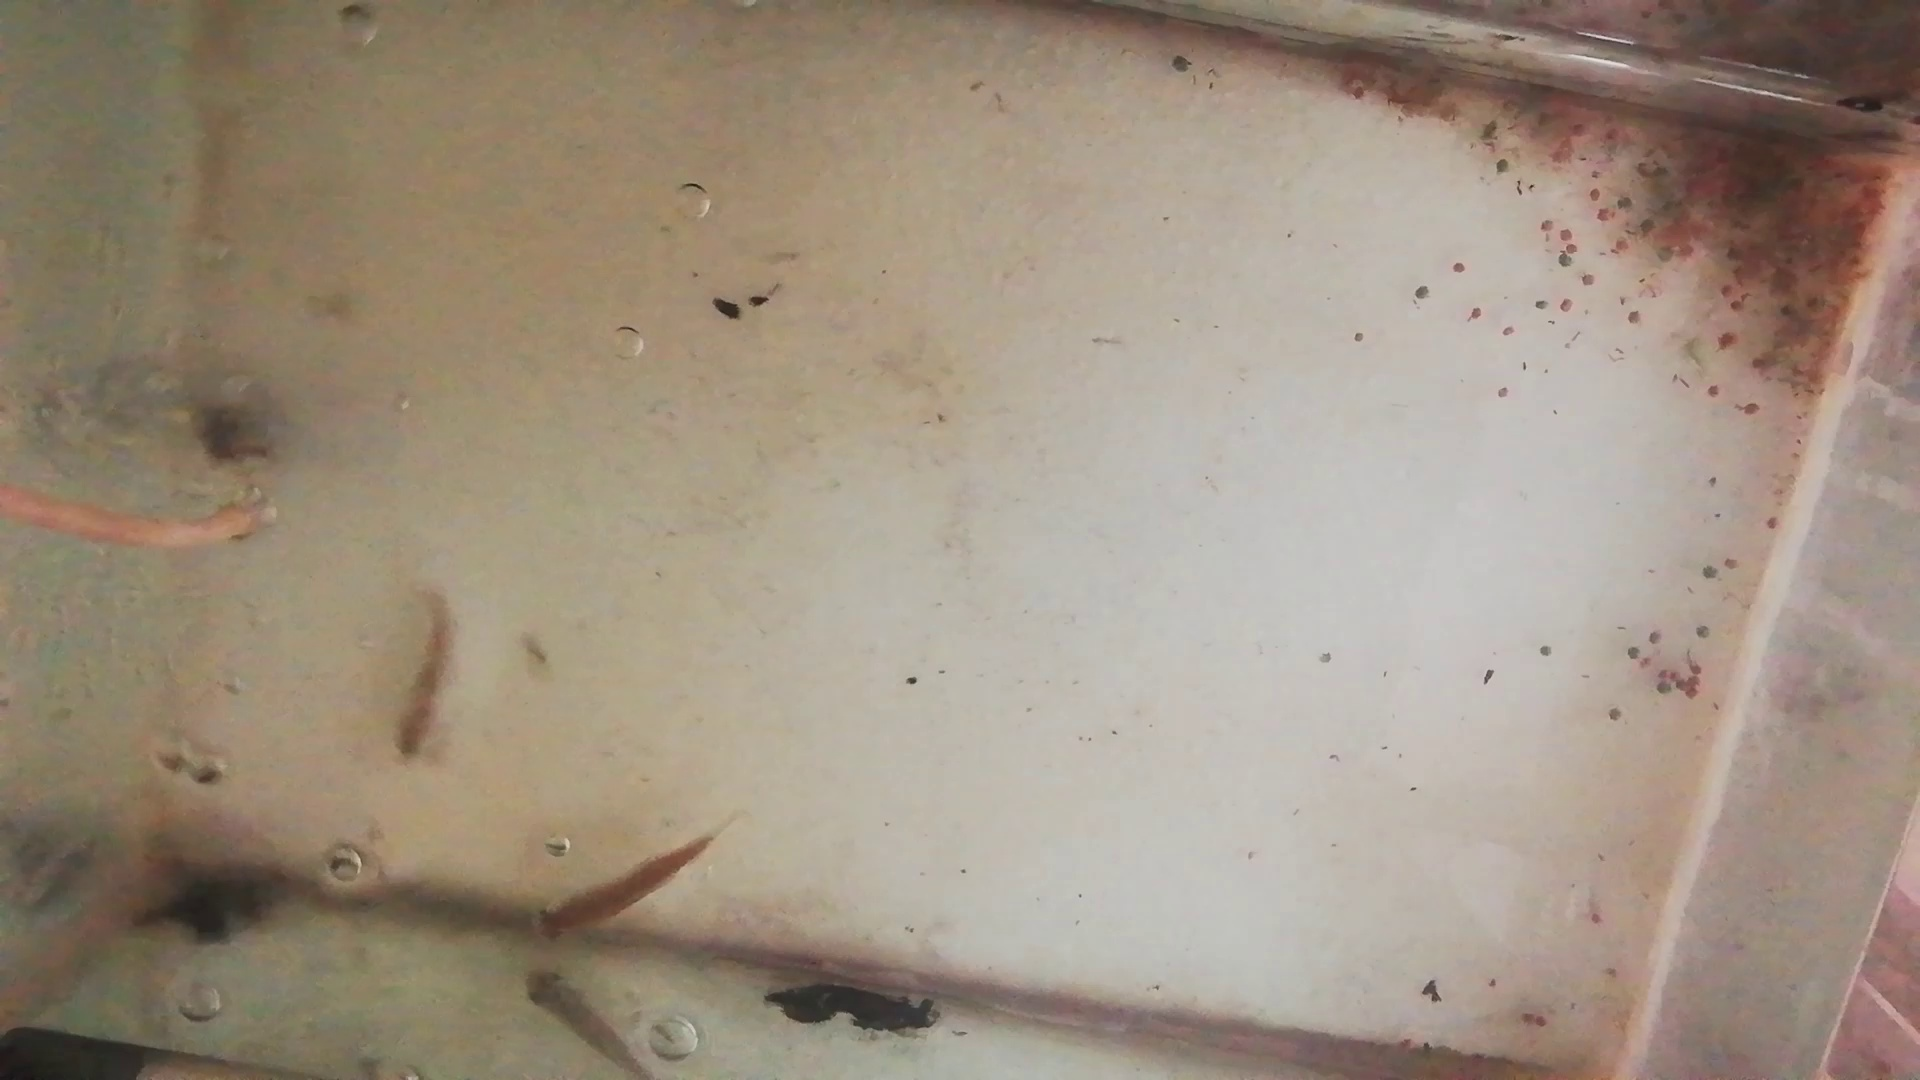fish: (530, 833, 711, 942), (393, 583, 452, 764)
